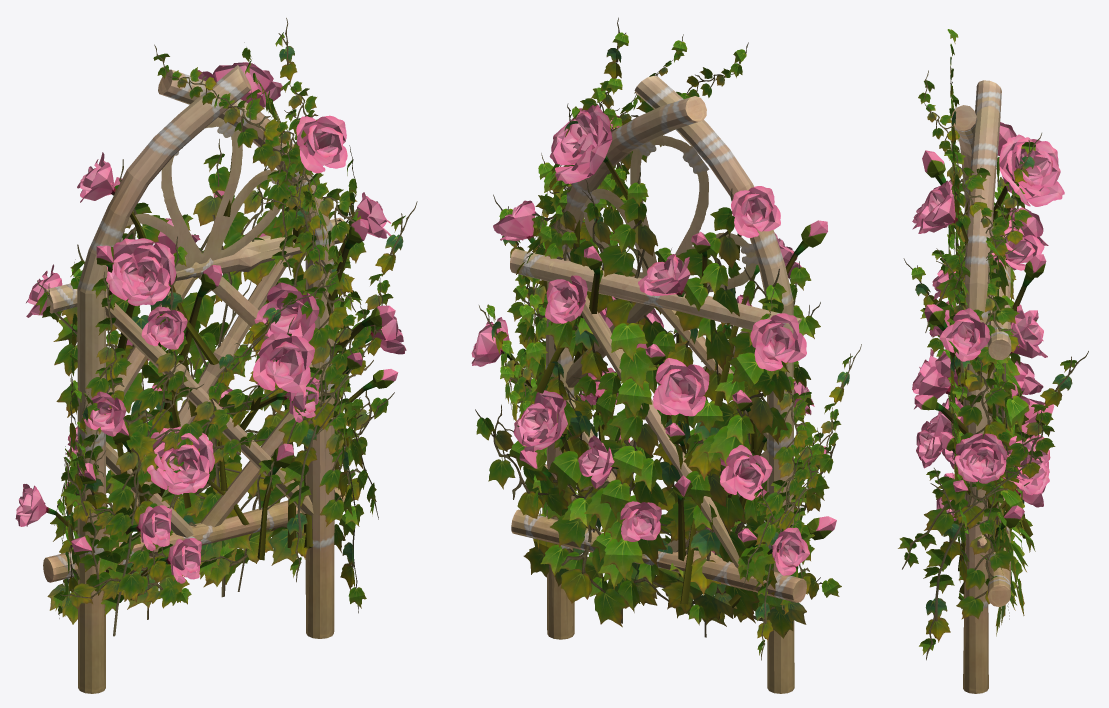
File: P_Rose03.obj
3 renders of one model, left to right at view 1: azimuth 30°, elevation 25°; view 2: azimuth 150°, elevation 25°; view 3: azimuth 270°, elevation 25°, orthographic. The views are drawn at different scales.
Bounding box in the file's own units: 2.26 × 3.65 × 1.11.
49 materials, 49 textured.
